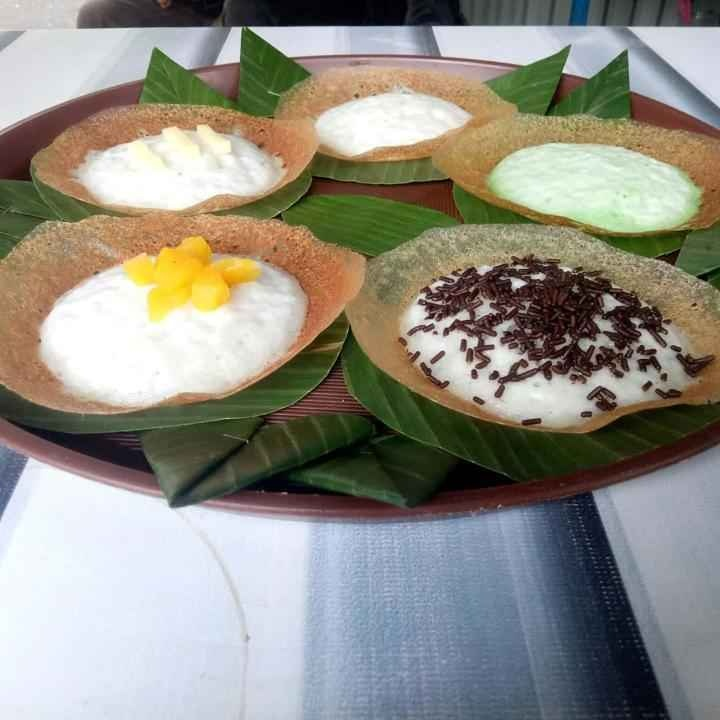srabi: (360, 208, 711, 465), (17, 209, 349, 413), (442, 91, 719, 236), (30, 81, 313, 200), (321, 55, 482, 170)
